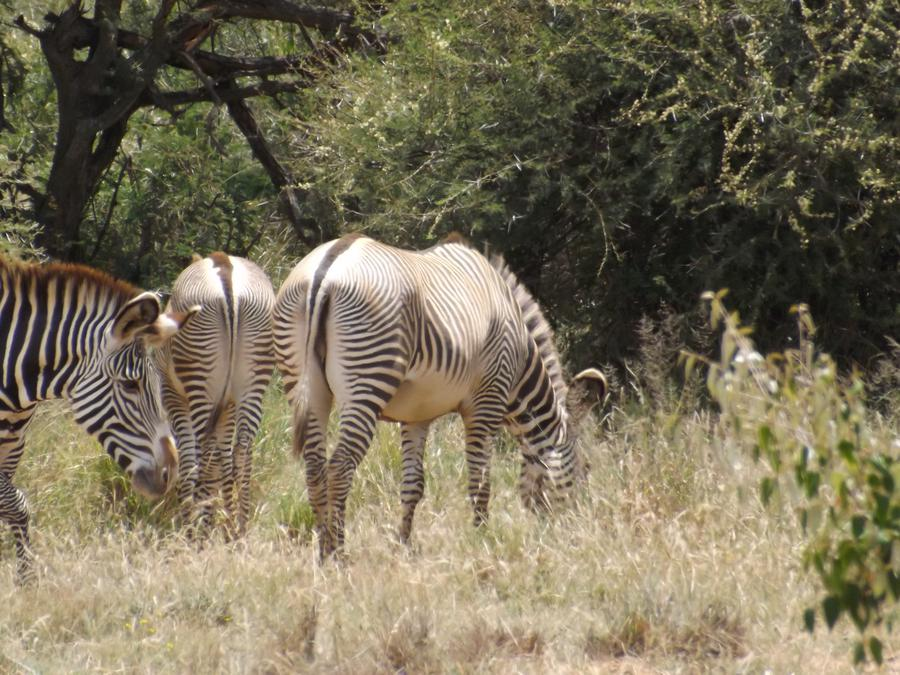zebra_grevys: (294, 237, 500, 413)
